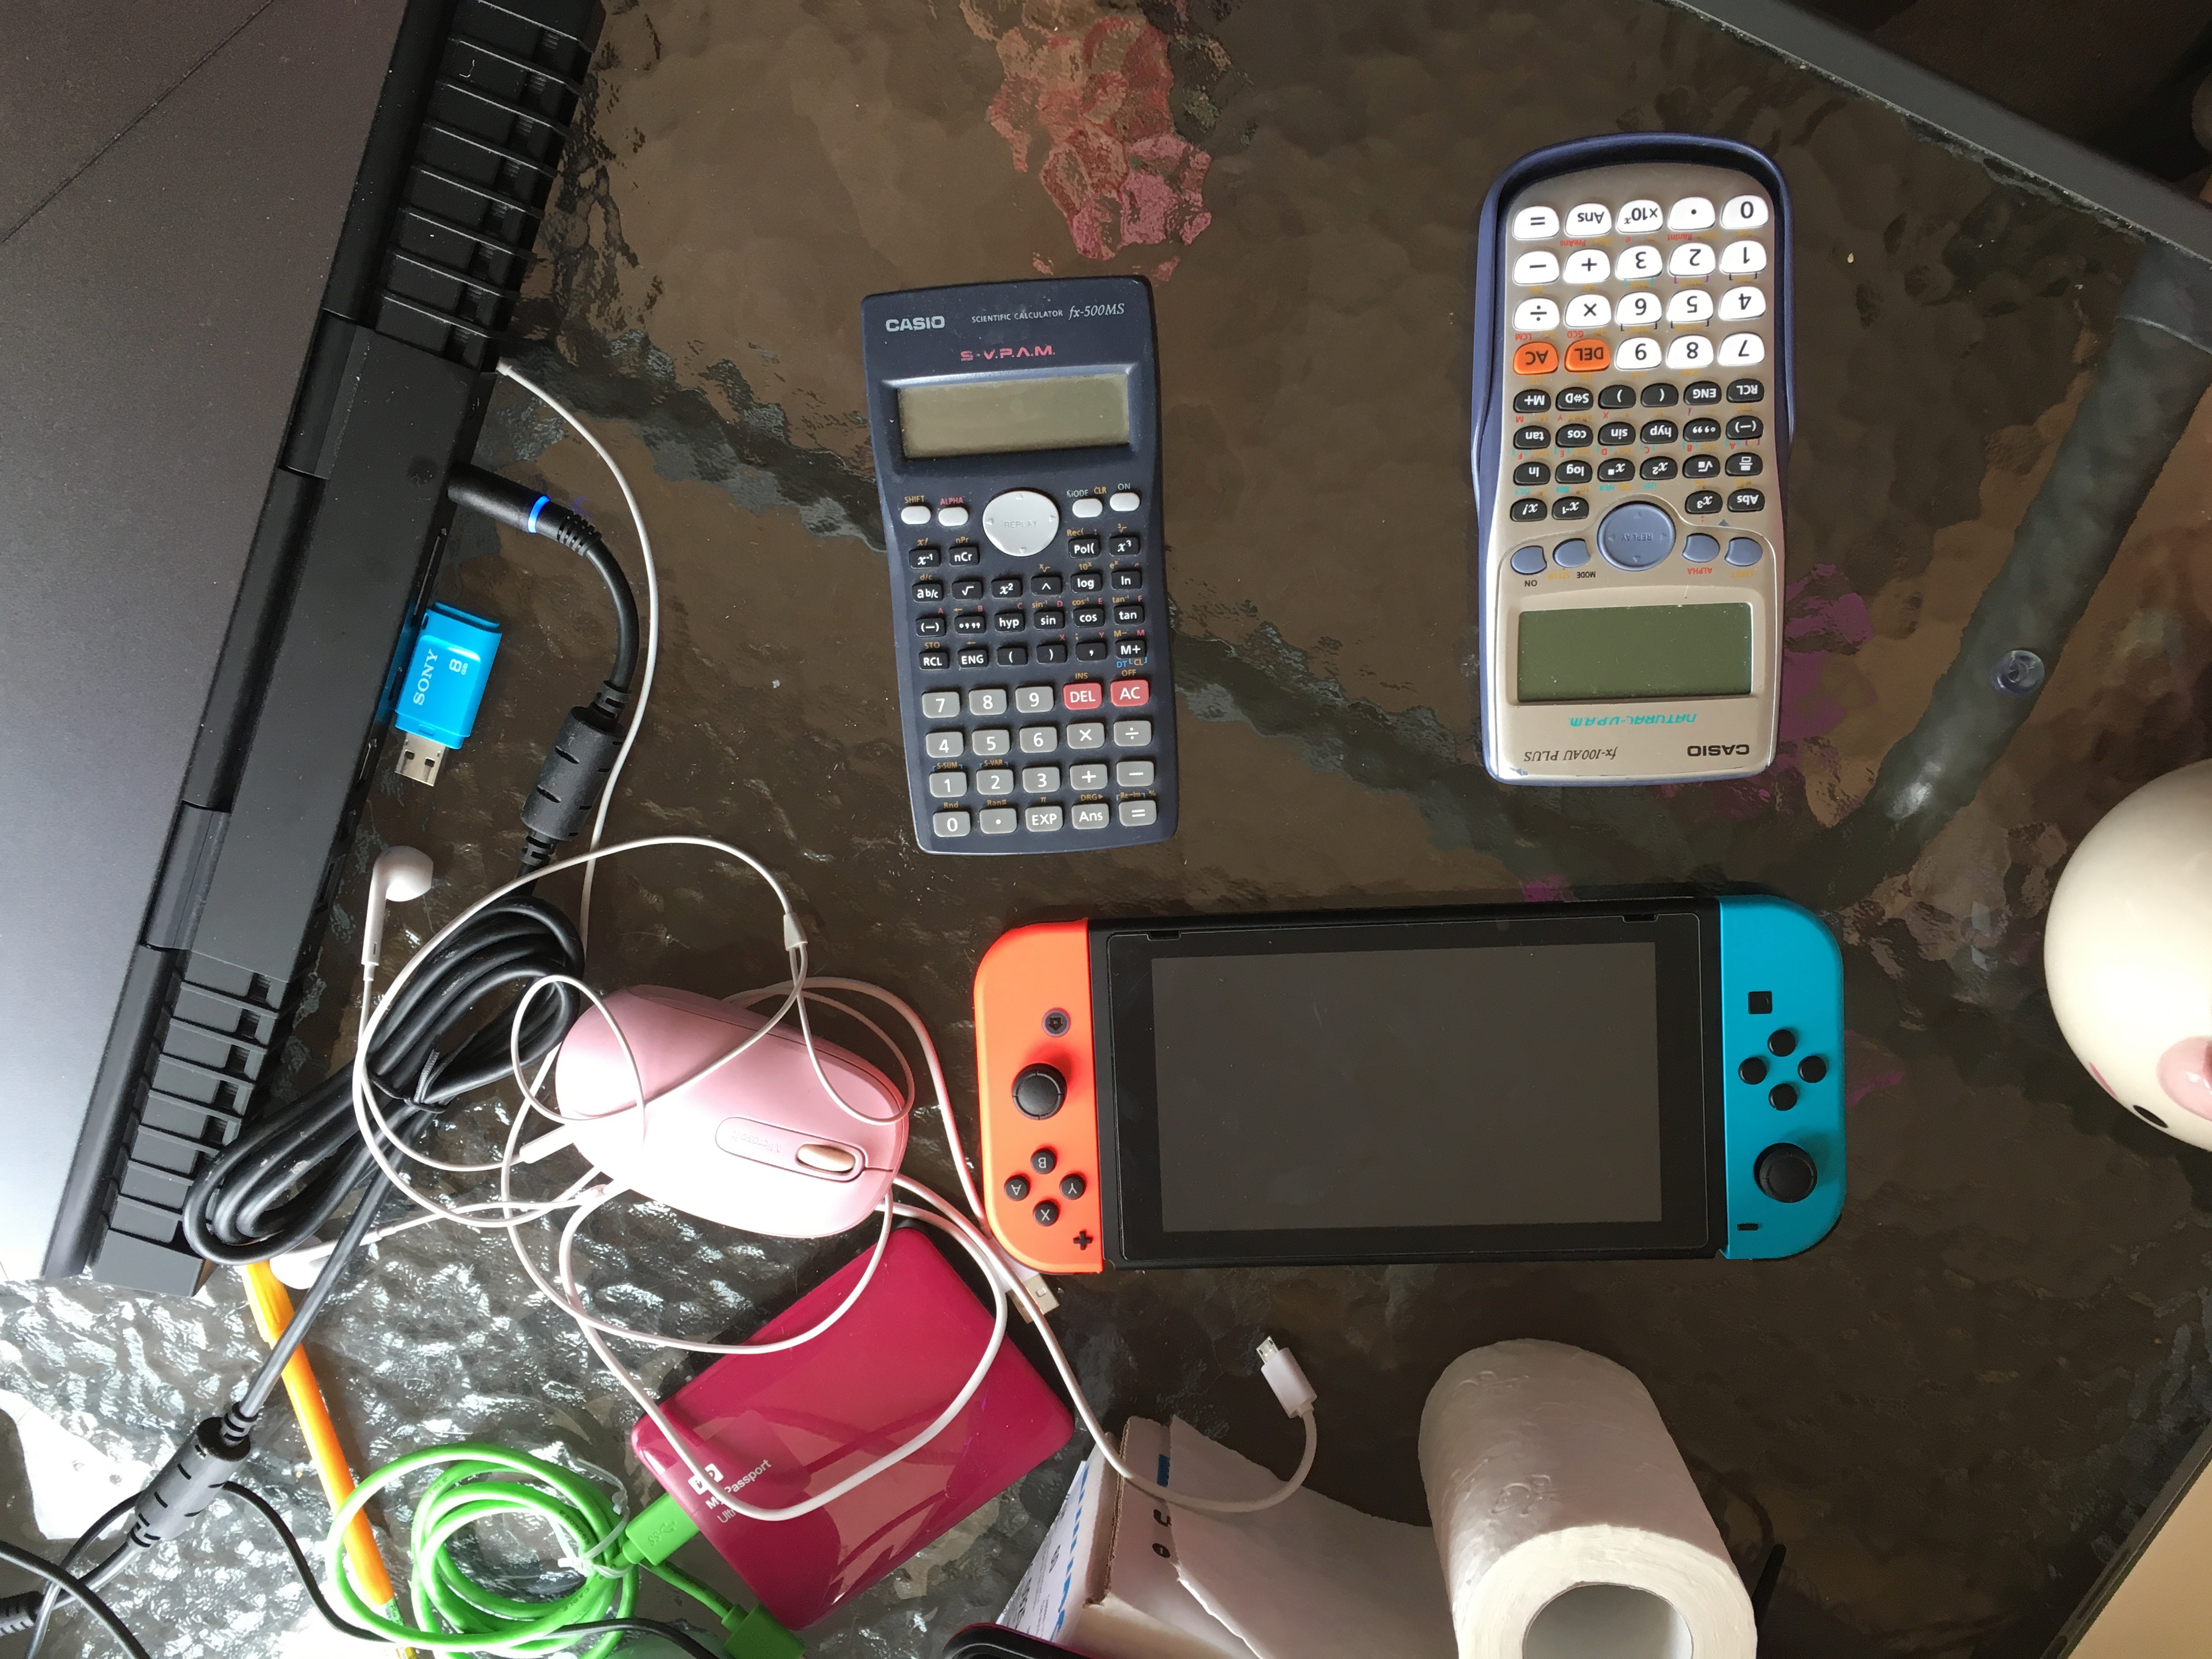Calculator: (1449, 127, 1808, 796), (852, 267, 1190, 875)
NintendoSwitch: (953, 897, 1860, 1270)
